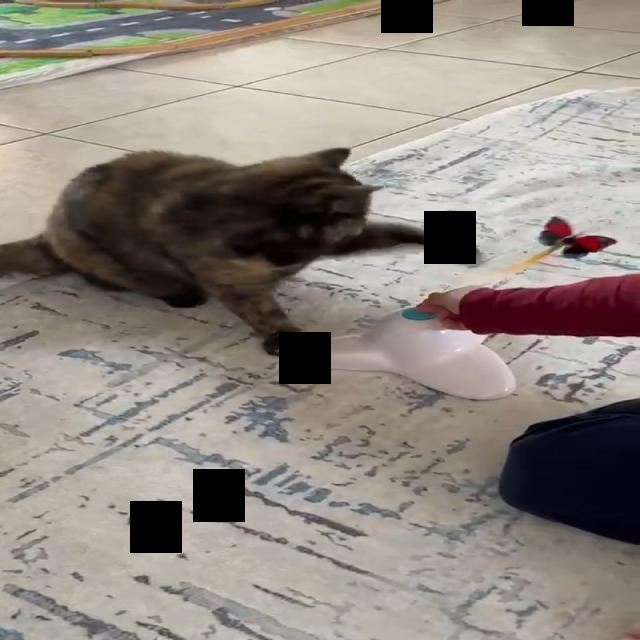authorized: (0, 146, 479, 357)
